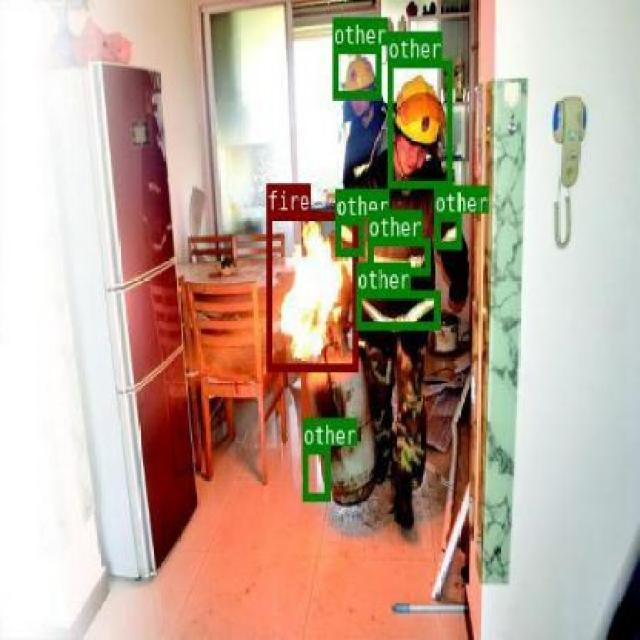Fire: (266, 210, 357, 370)
